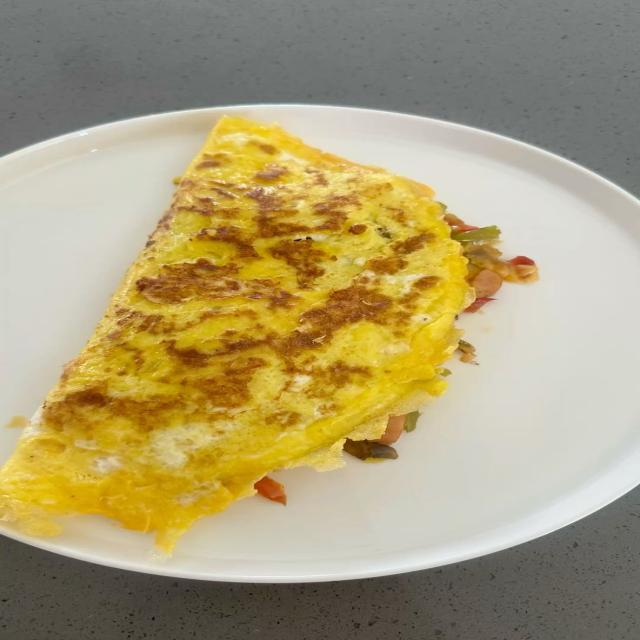omelette: (0, 118, 473, 550)
